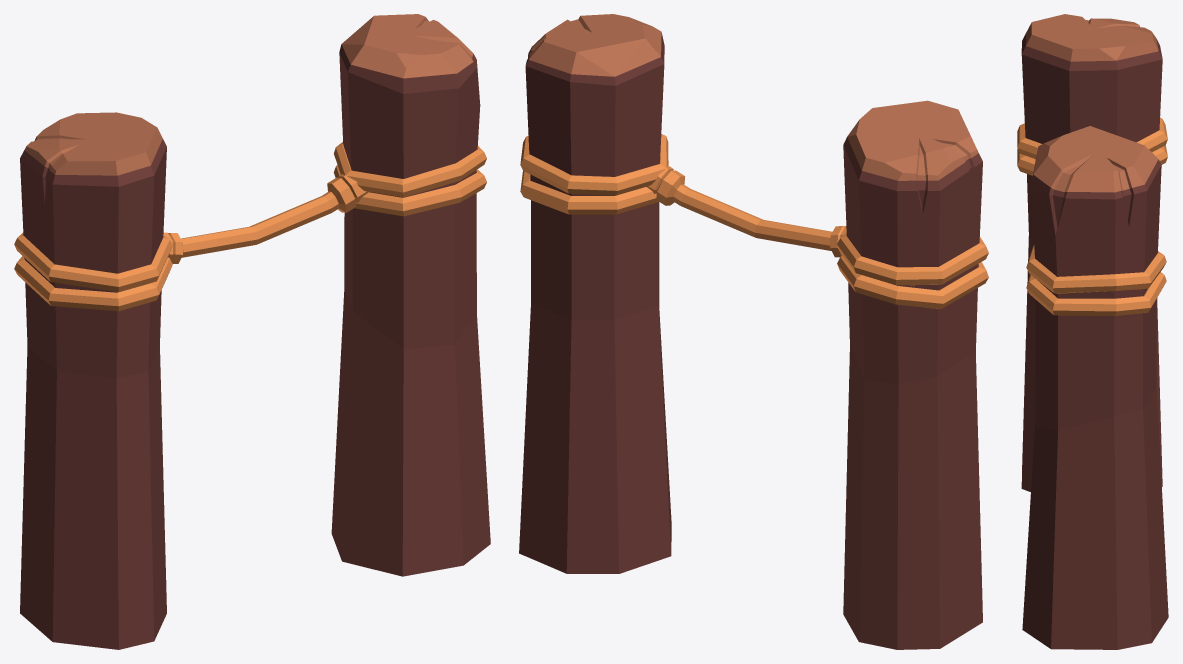
Rendered from Fence Wooden Blunt 05.fbx.
The picture shows the model from 3 angles, left to right: view 1: azimuth 30°, elevation 25°; view 2: azimuth 150°, elevation 25°; view 3: azimuth 270°, elevation 25°; orthographic projection. The views are drawn at different scales.
Parts seen in each view (by area): view 1: Fence Wooden Blunt 05; view 2: Fence Wooden Blunt 05; view 3: Fence Wooden Blunt 05.
Part boxes in pixels (left/top/right/bottom): Fence Wooden Blunt 05: left=14, top=14, right=490, bottom=649; Fence Wooden Blunt 05: left=519, top=14, right=988, bottom=649; Fence Wooden Blunt 05: left=1017, top=14, right=1168, bottom=649.
Size of the model in its own units: 99.61 by 111 by 32.12.
